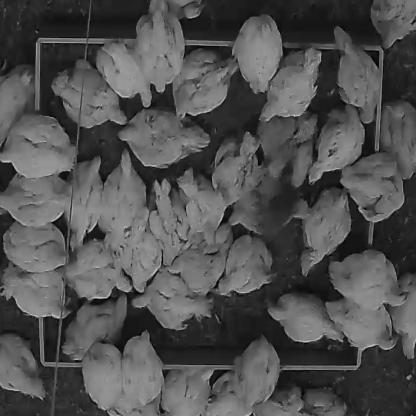chicken: (50, 57, 131, 128), (115, 108, 212, 167), (130, 267, 216, 330), (294, 187, 353, 278), (172, 43, 239, 122), (96, 150, 148, 250), (224, 174, 309, 234), (135, 1, 188, 97), (0, 115, 79, 179), (327, 249, 411, 309), (333, 25, 383, 124), (259, 47, 323, 123), (340, 151, 405, 223), (308, 104, 365, 186), (211, 133, 264, 221), (60, 293, 129, 360), (327, 293, 401, 355), (168, 229, 235, 297), (266, 290, 349, 343), (150, 177, 201, 263), (96, 41, 161, 108), (224, 335, 280, 412), (176, 166, 227, 249), (62, 238, 131, 299), (0, 171, 73, 228), (58, 154, 105, 242), (0, 265, 72, 320), (0, 218, 72, 273), (233, 14, 282, 93), (214, 232, 274, 296), (122, 329, 166, 415), (118, 211, 162, 293), (81, 338, 124, 415), (0, 333, 47, 400), (0, 63, 35, 148), (380, 97, 415, 179), (161, 368, 215, 415), (203, 371, 258, 415), (369, 1, 415, 50), (390, 273, 415, 360), (248, 385, 306, 415), (305, 385, 350, 415)
